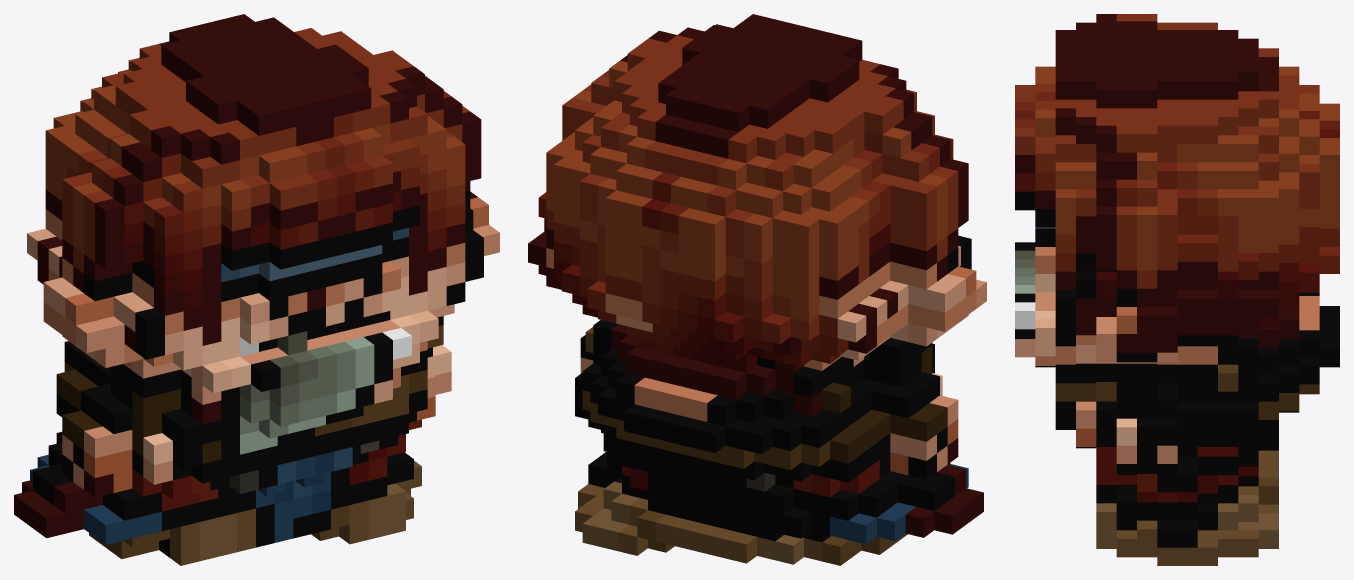
Rendered from Icon_005_01.obj.
The picture shows the model from 3 angles, left to right: view 1: azimuth 30°, elevation 25°; view 2: azimuth 150°, elevation 25°; view 3: azimuth 270°, elevation 25°; orthographic projection. The views are drawn at different scales.
Size of the model in its own units: 2.3 by 2.4 by 1.6.
